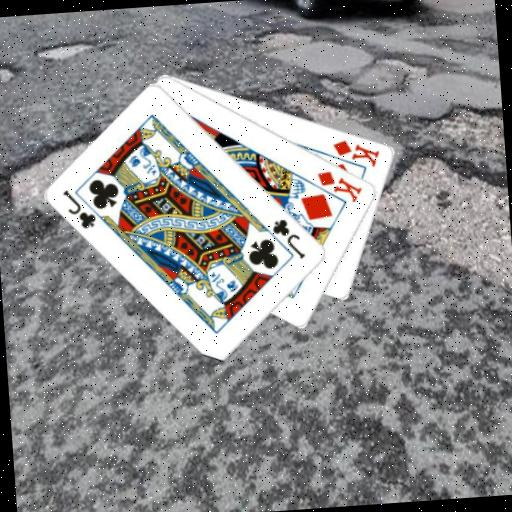JC: (268, 214, 308, 262), (60, 185, 100, 233)
KD: (314, 165, 365, 207), (330, 134, 383, 171)
